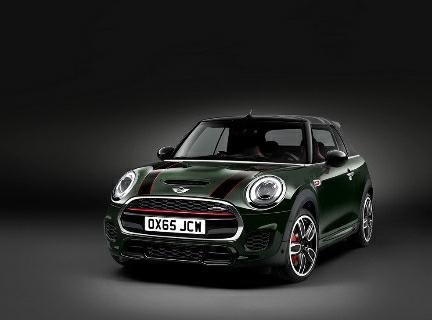MINI-JCW: (97, 114, 383, 284)
